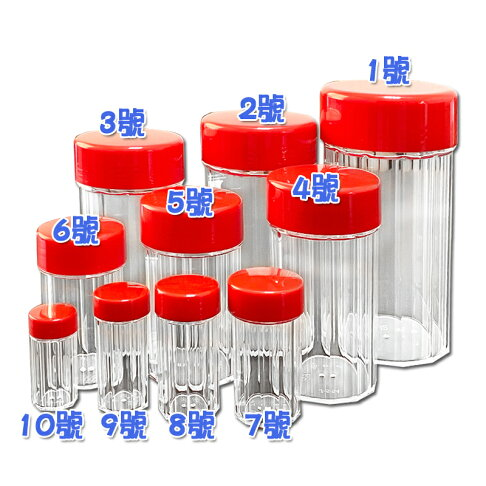medicinejar: (321, 79, 454, 366), (201, 110, 323, 379), (69, 129, 191, 378), (267, 164, 384, 407), (140, 193, 246, 383), (33, 217, 129, 390), (226, 267, 304, 421), (155, 276, 220, 417), (91, 285, 157, 414), (24, 302, 84, 411)
